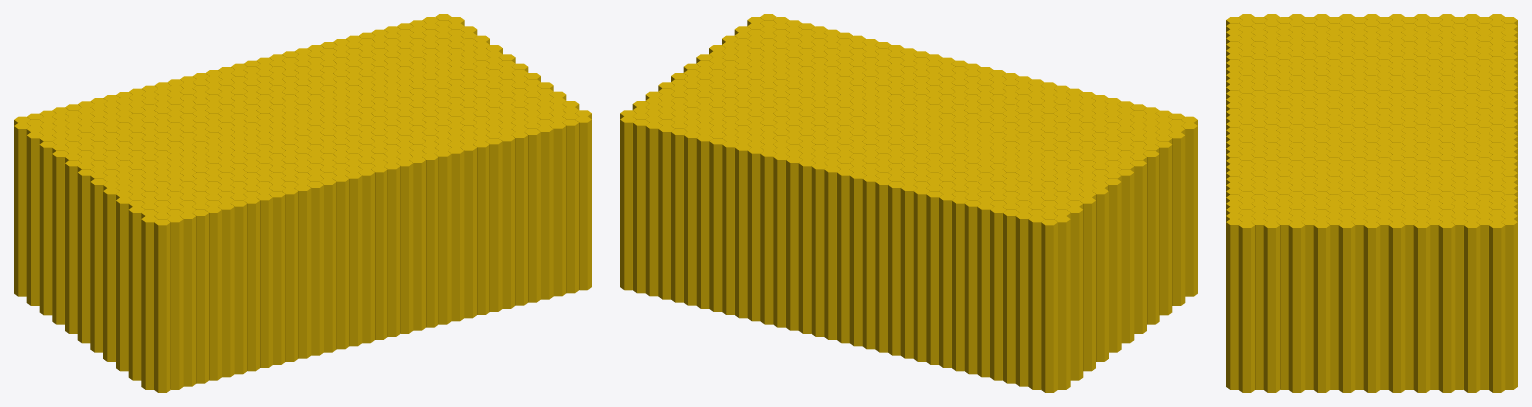
The model's file is Level.fbx.
3 views of the same model, side by side, from view 1: azimuth 30°, elevation 25°; view 2: azimuth 150°, elevation 25°; view 3: azimuth 270°, elevation 25° (orthographic).
Parts seen in each view (by area): view 1: Circle_050; view 2: Circle_050; view 3: Circle_050.
Part boxes in pixels (x1,y1,x2,y2): Circle_050: (14, 14, 591, 392); Circle_050: (620, 14, 1197, 392); Circle_050: (1226, 14, 1517, 392).
Bounding box in the file's own units: 3079 × 1105 × 1772.
